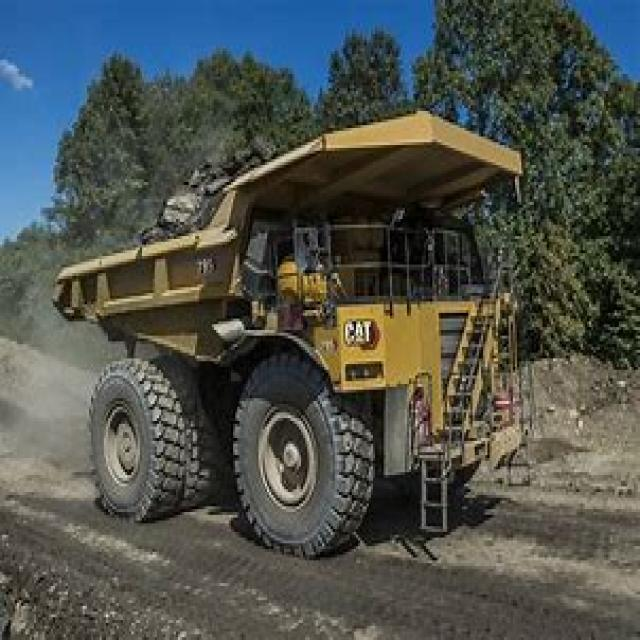dump_truck: (45, 100, 534, 558)
